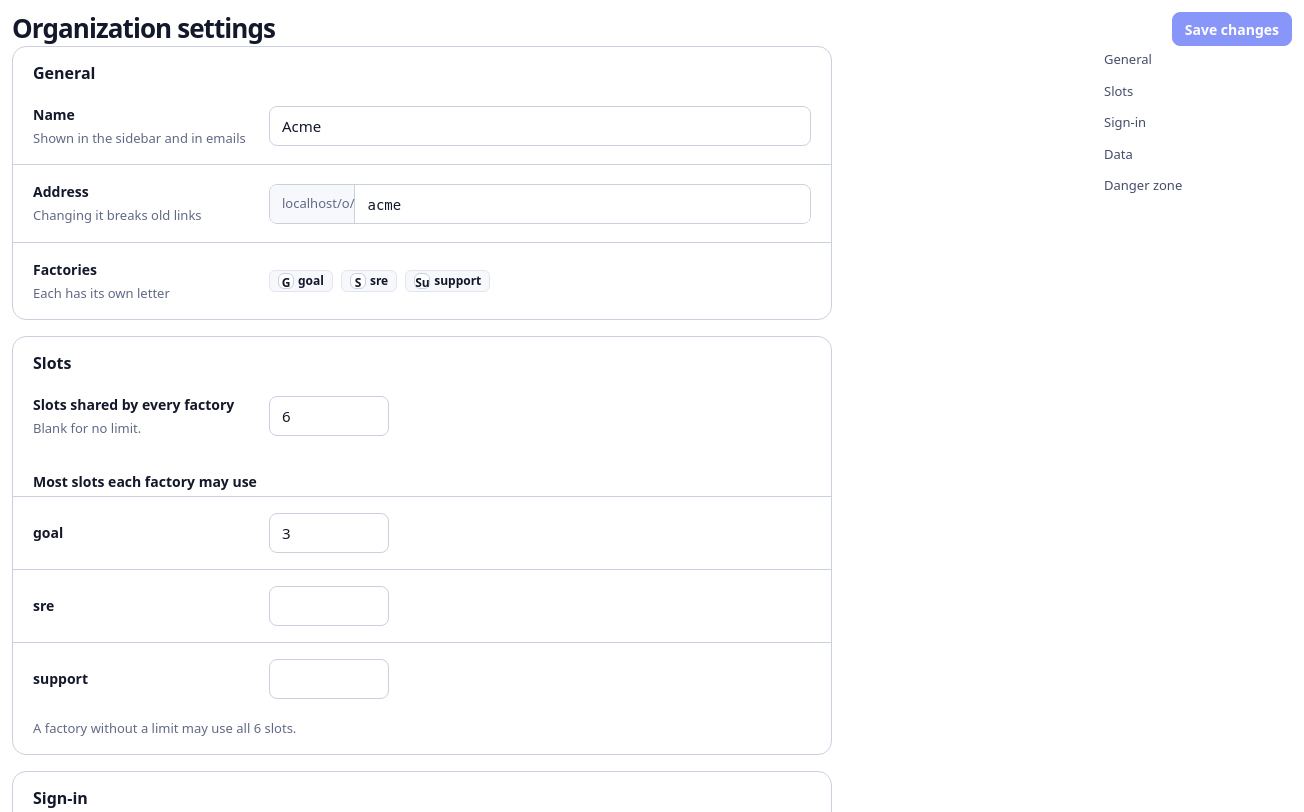
Organization settings page › shows a failed save as an alert and keeps the changes
This screenshot has width=1304, height=812.
Replace the text in the field labelled "Name" with "Acme Robotics" at [540, 126], box [269, 106, 811, 146]
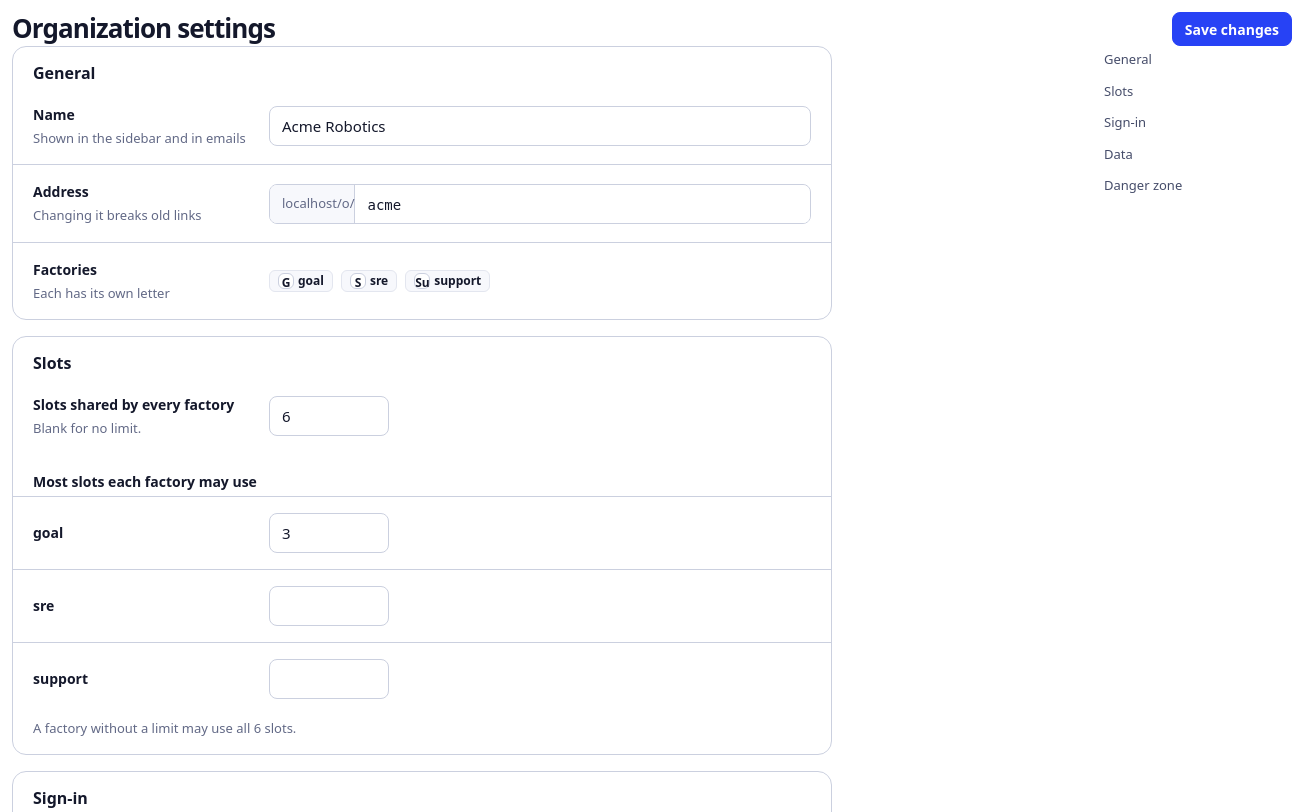
Click the button "Save changes".
click(1232, 29)  # box [1172, 12, 1292, 46]
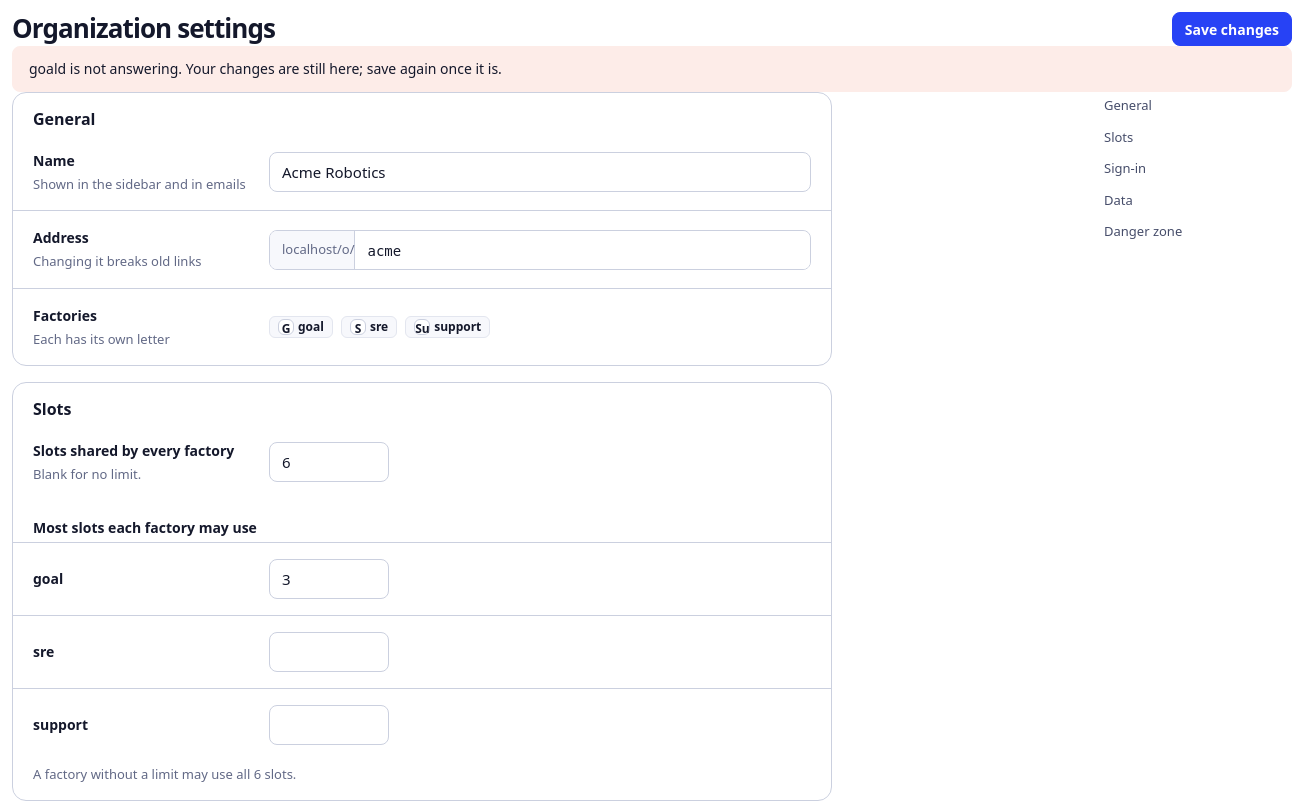
Result: the message shows "goald is not answering" at [29, 59, 502, 78]
